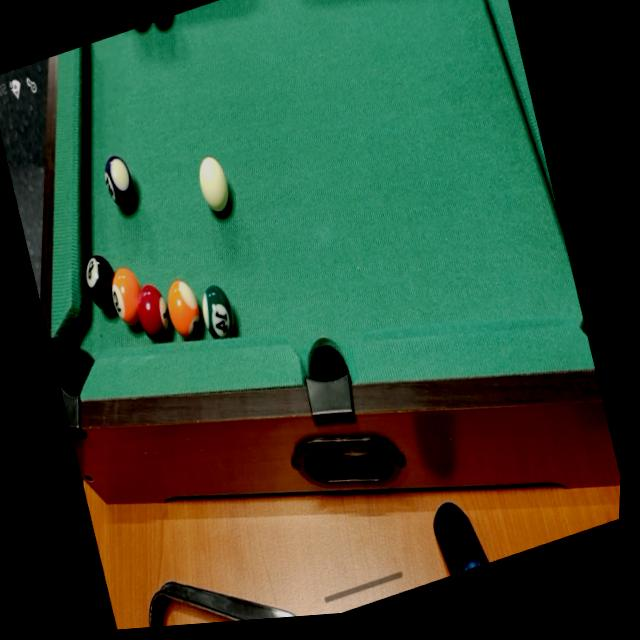cue ball: (190, 148, 241, 226)
other: (157, 272, 209, 348), (76, 244, 126, 318), (128, 276, 177, 349), (193, 277, 242, 350), (103, 260, 149, 331), (97, 149, 141, 220)
